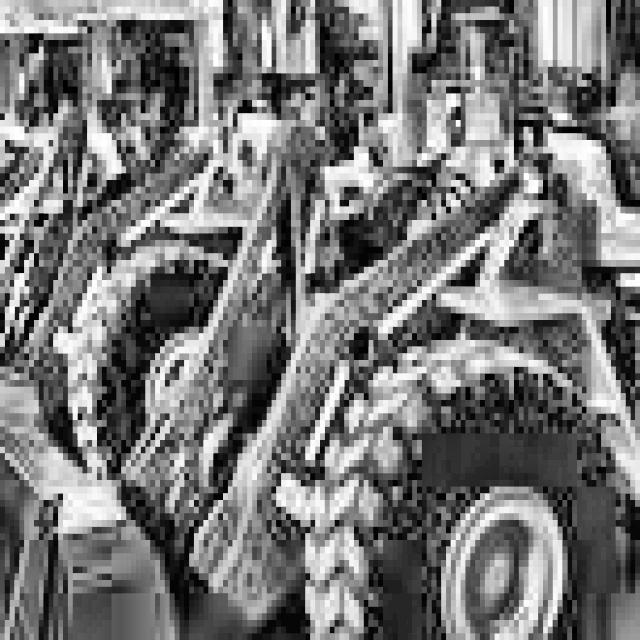buldozerpayloadergrader: (329, 0, 640, 640), (116, 0, 519, 447), (53, 0, 227, 373)
